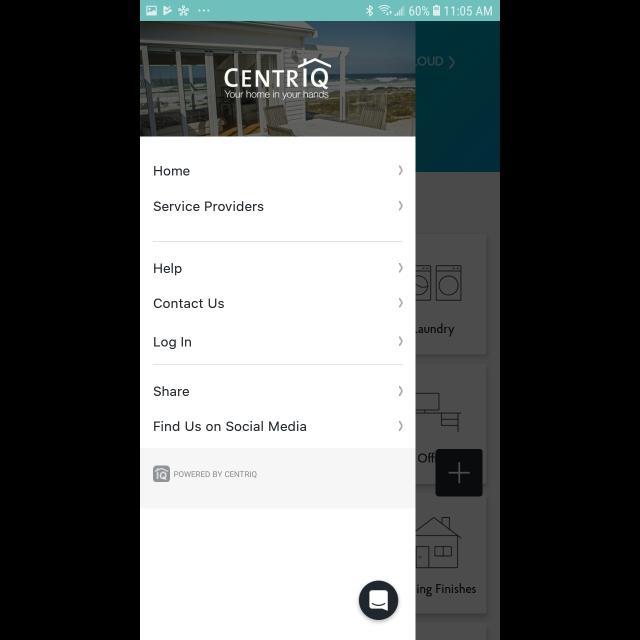icon: (359, 580, 399, 620), (399, 421, 403, 432), (399, 165, 403, 175), (399, 263, 403, 273), (399, 201, 403, 211), (398, 298, 402, 308), (399, 336, 403, 346), (399, 386, 403, 396)
image: (225, 58, 332, 100), (154, 466, 170, 482)
panel: (140, 22, 416, 640)
text: (154, 421, 306, 431), (154, 201, 264, 211), (153, 299, 224, 309), (175, 470, 258, 478), (154, 337, 192, 349), (154, 166, 190, 176), (154, 386, 190, 396), (154, 264, 182, 276)
uppertaskbar: (140, 1, 500, 22)
